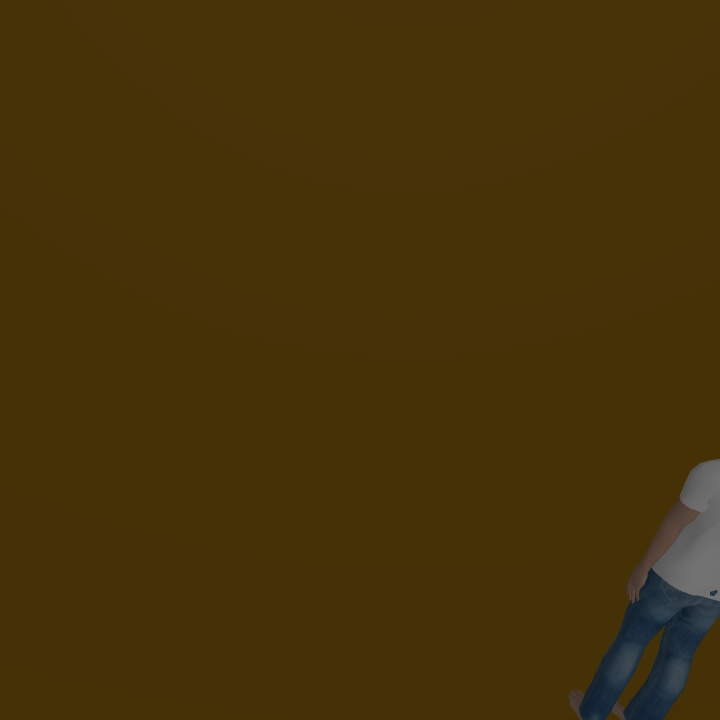victim: (575, 456, 720, 718)
